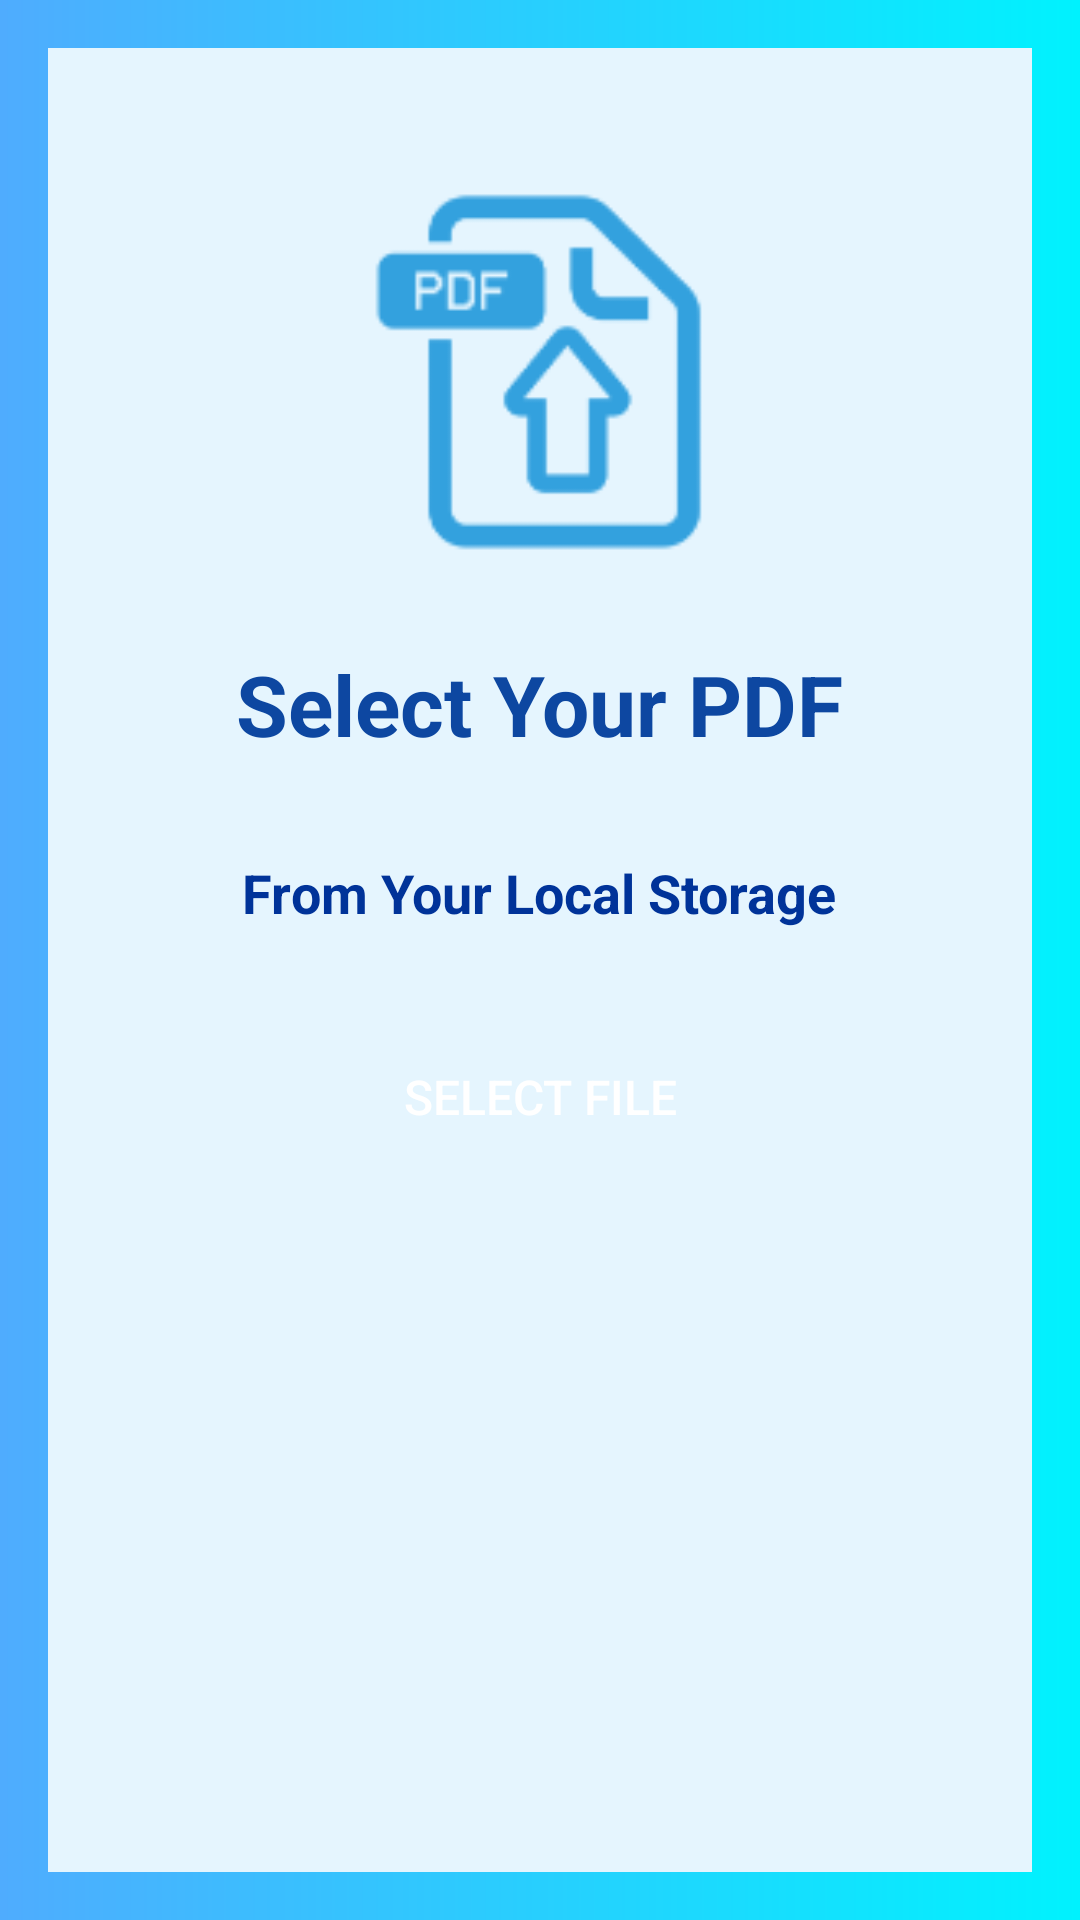

Icons on this 1080×1920 Android screen, each with the point to tap as (x=x, y=y):
upload pdf: (x=538, y=372)
